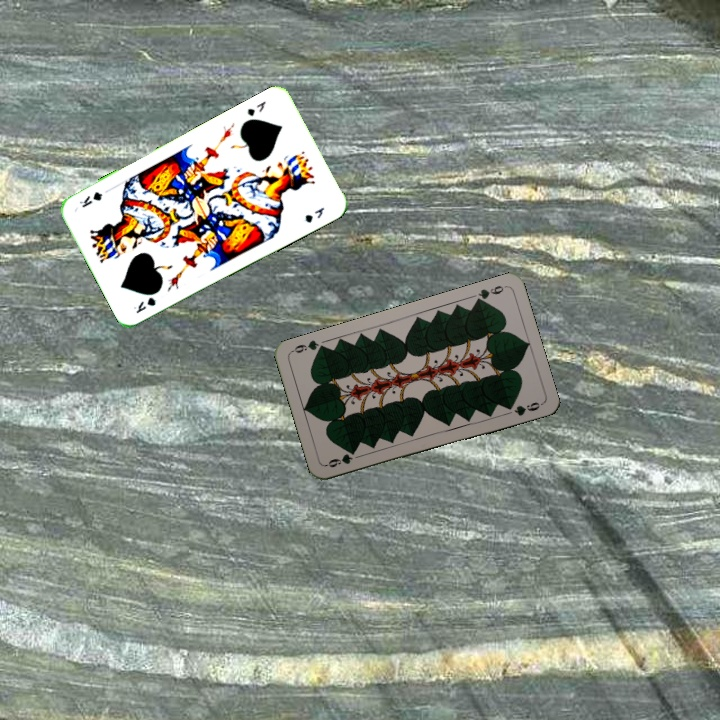G9: (471, 281, 508, 306), (323, 451, 363, 470)
GK: (129, 293, 159, 316), (243, 97, 269, 119)
